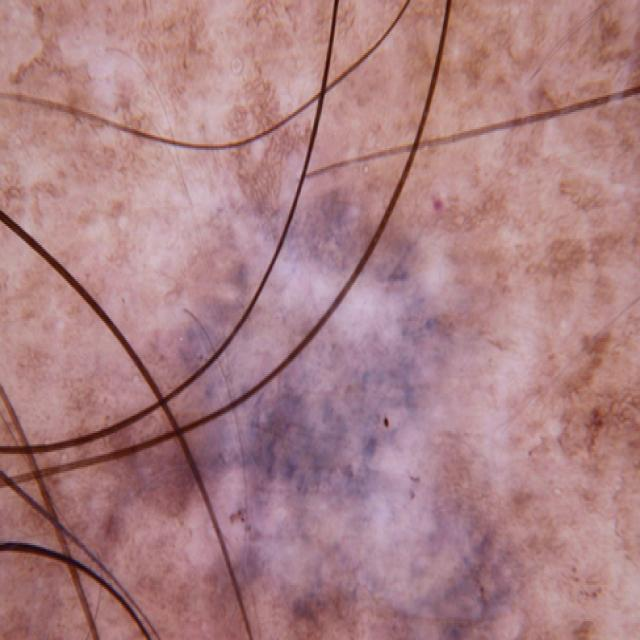Keratosis: (100, 171, 552, 640)
